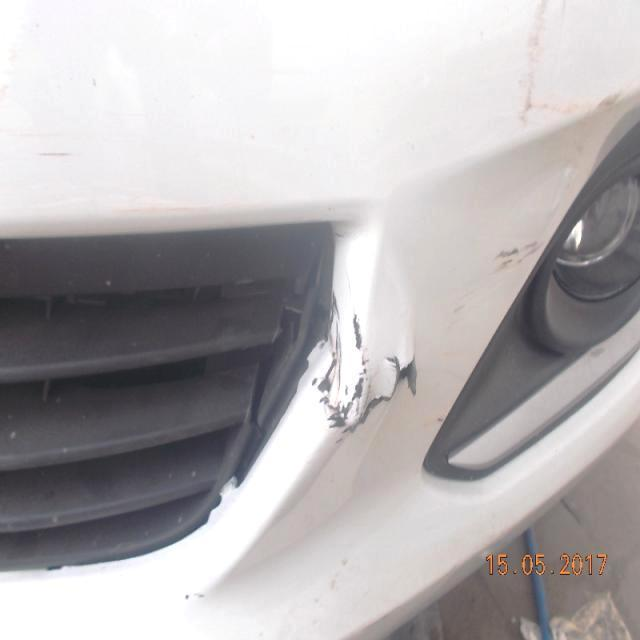minor: (287, 222, 450, 471), (520, 0, 565, 131), (494, 241, 543, 279)
